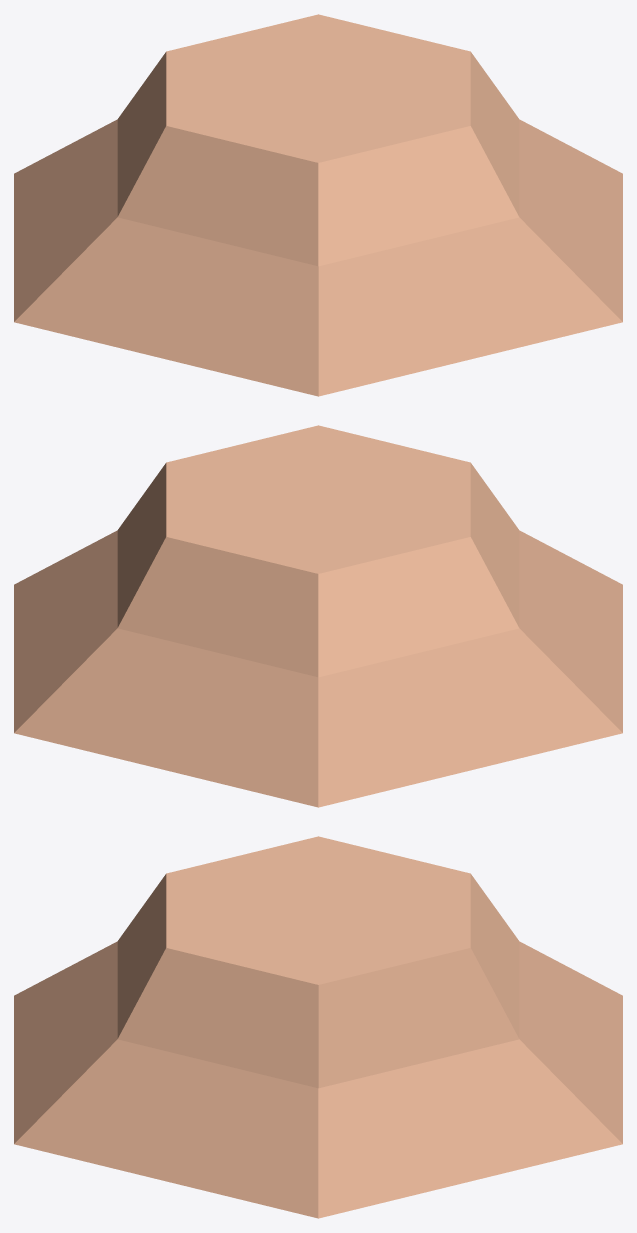
File: crops_dirtsingle.glb
3 views of the same model, one above another, from view 1: azimuth 30°, elevation 25°; view 2: azimuth 150°, elevation 25°; view 3: azimuth 270°, elevation 25° (orthographic).
Visible parts, largest first — view 1: crops_dirtSingle; view 2: crops_dirtSingle; view 3: crops_dirtSingle.
Part boxes in pixels (box(x1,y1,x2,y2)): crops_dirtSingle: box(14, 14, 622, 396); crops_dirtSingle: box(14, 425, 622, 807); crops_dirtSingle: box(14, 836, 622, 1218).
Bounding box in the file's own units: 0.4 × 0.1 × 0.3464.
